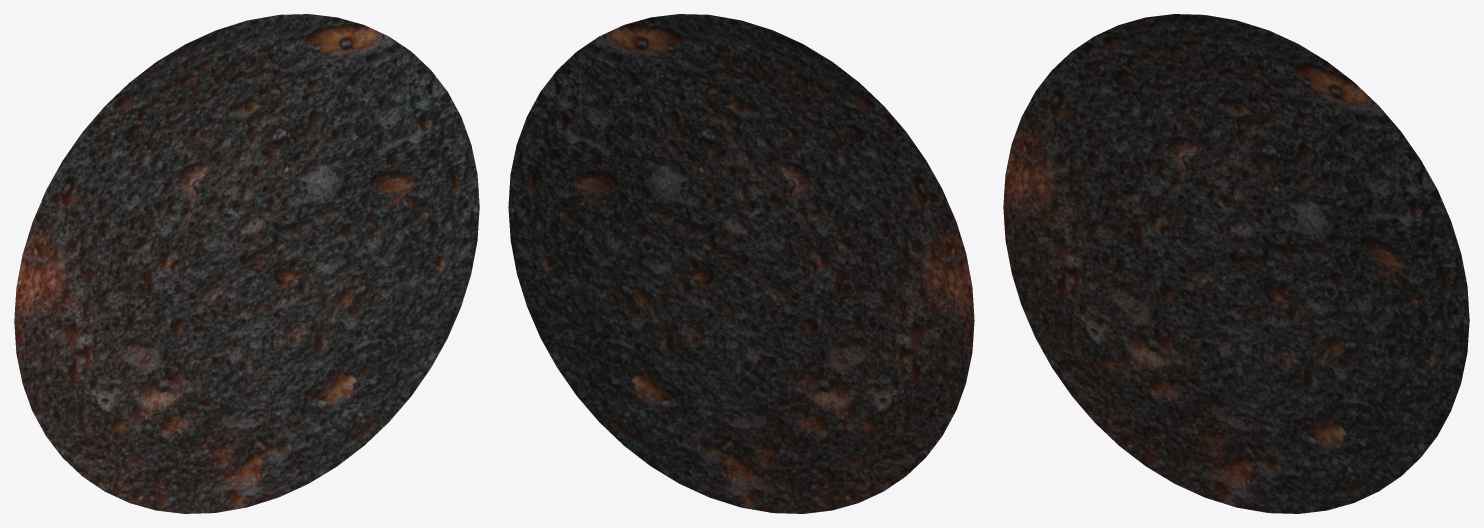
File: burn.fbx
3 renders of one model, left to right at view 1: azimuth 30°, elevation 25°; view 2: azimuth 150°, elevation 25°; view 3: azimuth 330°, elevation 25°, orthographic.
Parts seen in each view (by area): view 1: Plane.001; view 2: Plane.001; view 3: Plane.001.
Part boxes in pixels (left/top/right/bottom): Plane.001: left=14, top=14, right=479, bottom=513; Plane.001: left=508, top=14, right=974, bottom=513; Plane.001: left=1003, top=14, right=1469, bottom=513.
Bounding box in the file's own units: 201 × 201 × 0.4007.
